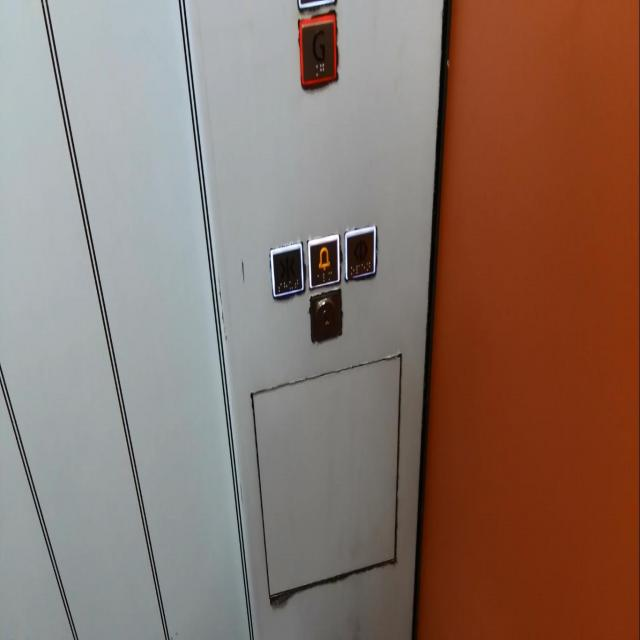G: (297, 9, 339, 93)
alarm: (307, 232, 341, 290)
bt_keyhole: (308, 291, 342, 343)
close: (267, 239, 305, 300)
open: (344, 224, 377, 284)
